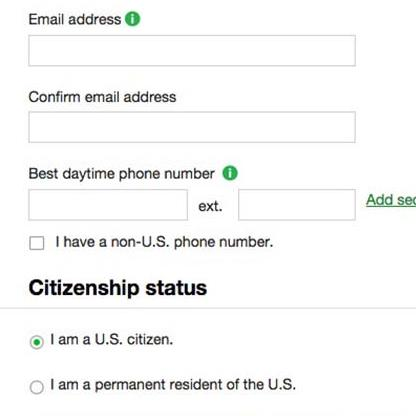checkbox: (29, 234, 53, 256)
checkbox_with_label: (22, 229, 278, 257)
field: (27, 107, 354, 143), (28, 32, 356, 67), (28, 186, 188, 222), (237, 187, 357, 221)
field_with_label: (23, 11, 359, 70), (23, 88, 357, 146), (24, 164, 213, 224), (201, 184, 359, 225)
radio: (28, 377, 49, 400), (28, 329, 46, 354)
radio_with_label: (23, 372, 298, 402), (22, 324, 175, 356)
